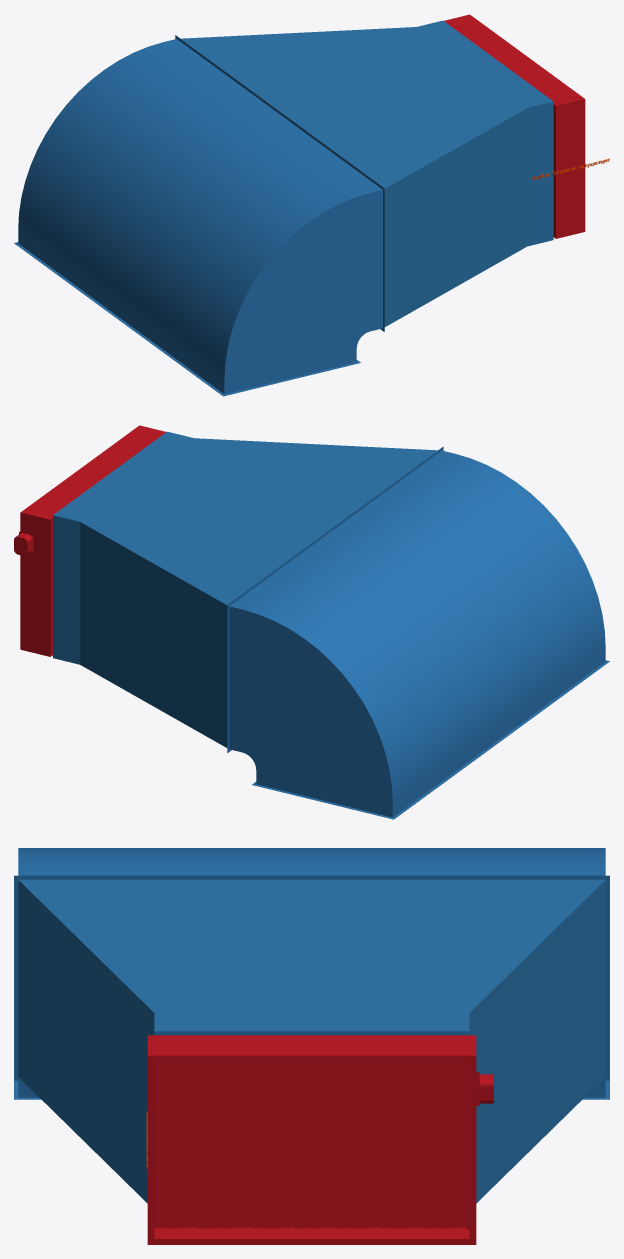
File: Phase18 (2).fbx
The picture shows the model from 3 angles, top to bottom: view 1: azimuth 30°, elevation 25°; view 2: azimuth 150°, elevation 25°; view 3: azimuth 270°, elevation 25°; orthographic projection. The views are drawn at different scales.
Visible parts, largest first — view 1: CPS_Отвод_Прямоугольный:Стандарт:589472, 19 переход:Стандартное:588489, Сталь; view 2: CPS_Отвод_Прямоугольный:Стандарт:589472, 19 переход:Стандартное:588489, Сталь; view 3: 19 переход:Стандартное:588489, Сталь, CPS_Отвод_Прямоугольный:Стандарт:589472.
Boxes of the visible parts, x1,y1,x2,y2 form: CPS_Отвод_Прямоугольный:Стандарт:589472: (14,35,384,396); 19 переход:Стандартное:588489: (181,20,553,326); Сталь: (444,14,585,238); CPS_Отвод_Прямоугольный:Стандарт:589472: (227,446,609,819); 19 переход:Стандартное:588489: (53,431,437,747); Сталь: (14,425,165,656); 19 переход:Стандартное:588489: (18,879,605,1203); Сталь: (147,1035,493,1244); CPS_Отвод_Прямоугольный:Стандарт:589472: (14,848,609,1099).
Bounding box in the file's own units: 3274 × 2740 × 1220.
